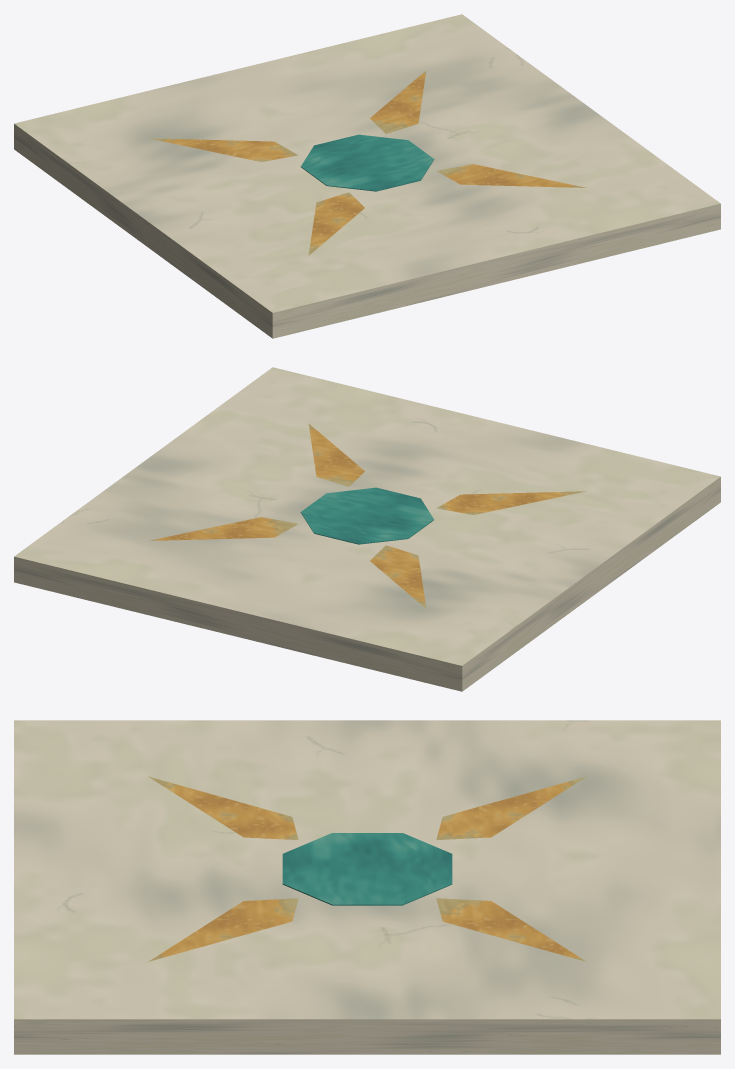
Rendered from StarPaving4.fbx.
The picture shows the model from 3 angles, top to bottom: view 1: azimuth 30°, elevation 25°; view 2: azimuth 150°, elevation 25°; view 3: azimuth 270°, elevation 25°; orthographic projection. The views are drawn at different scales.
Parts seen in each view (by area): view 1: StarPaving4; view 2: StarPaving4; view 3: StarPaving4.
Part boxes in pixels (x1,y1,x2,y2): StarPaving4: (14, 14, 720, 338); StarPaving4: (14, 367, 720, 691); StarPaving4: (14, 720, 720, 1054).
Bounding box in the file's own units: 400 × 22.7 × 400.
Materials: 1 (1 with a texture image).
